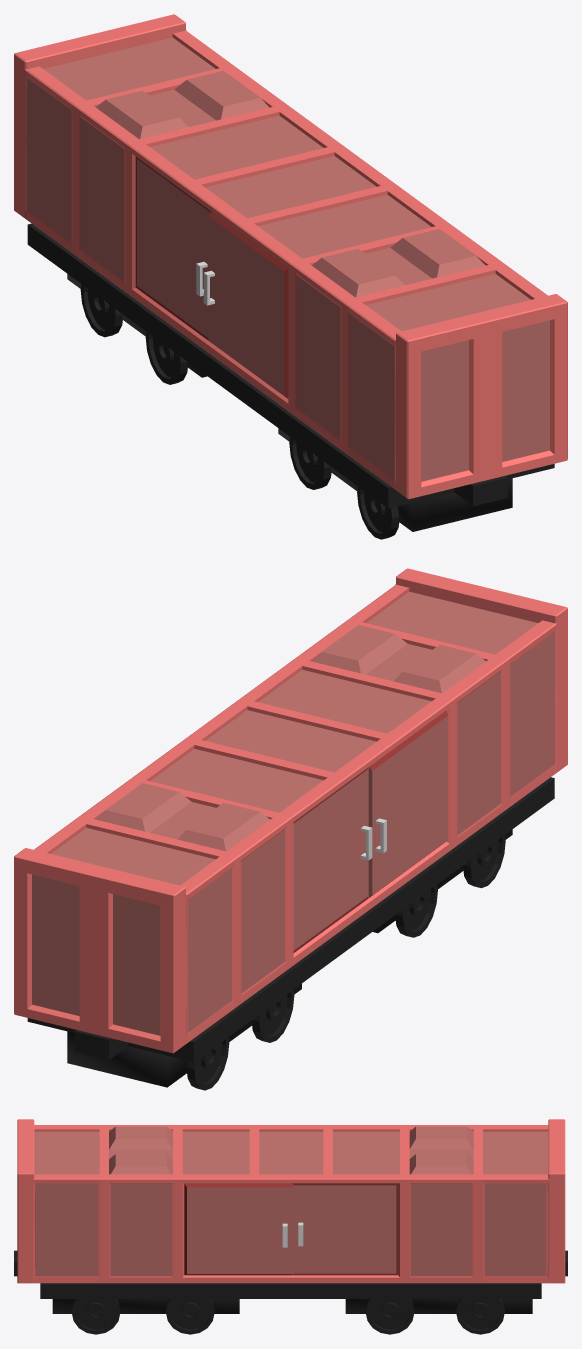
File: cabin_01.fbx
The picture shows the model from 3 angles, top to bottom: view 1: azimuth 30°, elevation 25°; view 2: azimuth 150°, elevation 25°; view 3: azimuth 270°, elevation 25°; orthographic projection. The views are drawn at different scales.
Visible parts, largest first — view 1: cabin _01; view 2: cabin _01; view 3: cabin _01.
Part boxes in pixels (x1,y1,x2,y2): cabin _01: (14, 14, 567, 539); cabin _01: (14, 568, 567, 1090); cabin _01: (14, 1119, 567, 1334).
Bounding box in the file's own units: 207 × 268 × 795.
